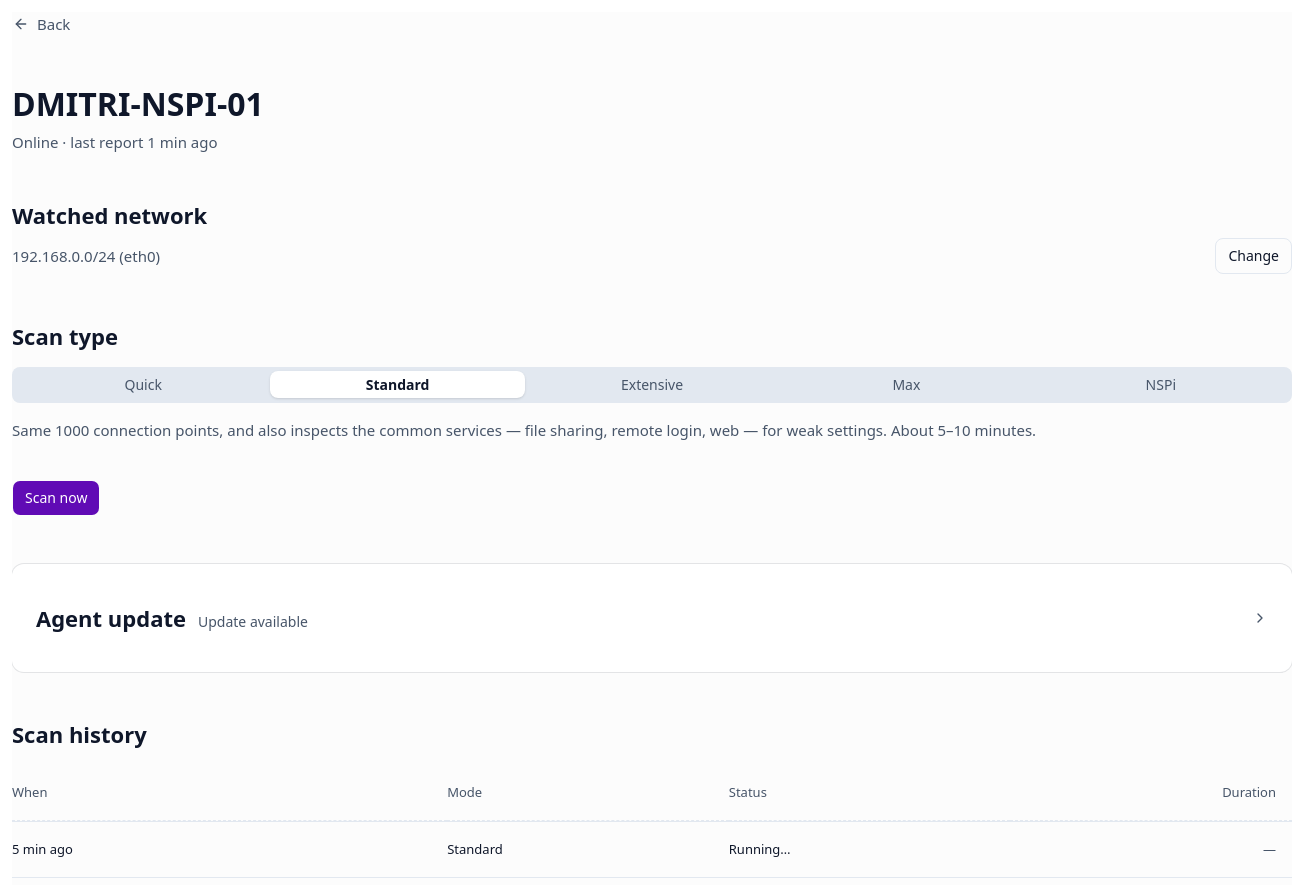
Device update section › notifies operation read failures while preserving persisted status and deduplicating manual refresh
The image size is (1304, 885).
Click the button with test id "agent-update-toggle" at (111, 618), box [12,588,1292,648]
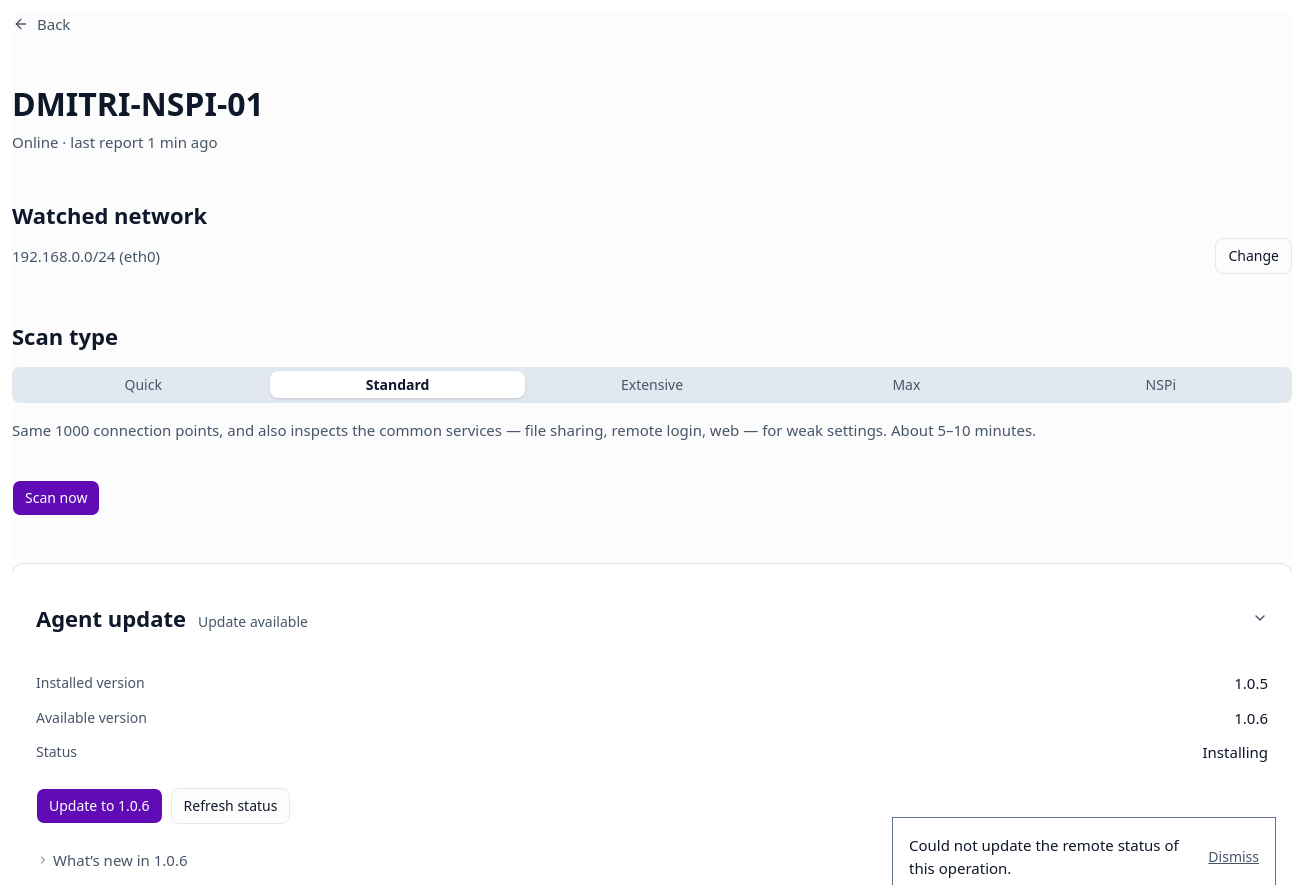
Check: the list item with test id "toast" shows "Could not update the remote status of this operation.", box [909,835,1179,878]
Click the button "Dismiss" at (1234, 856), box [1208,846,1259,867]
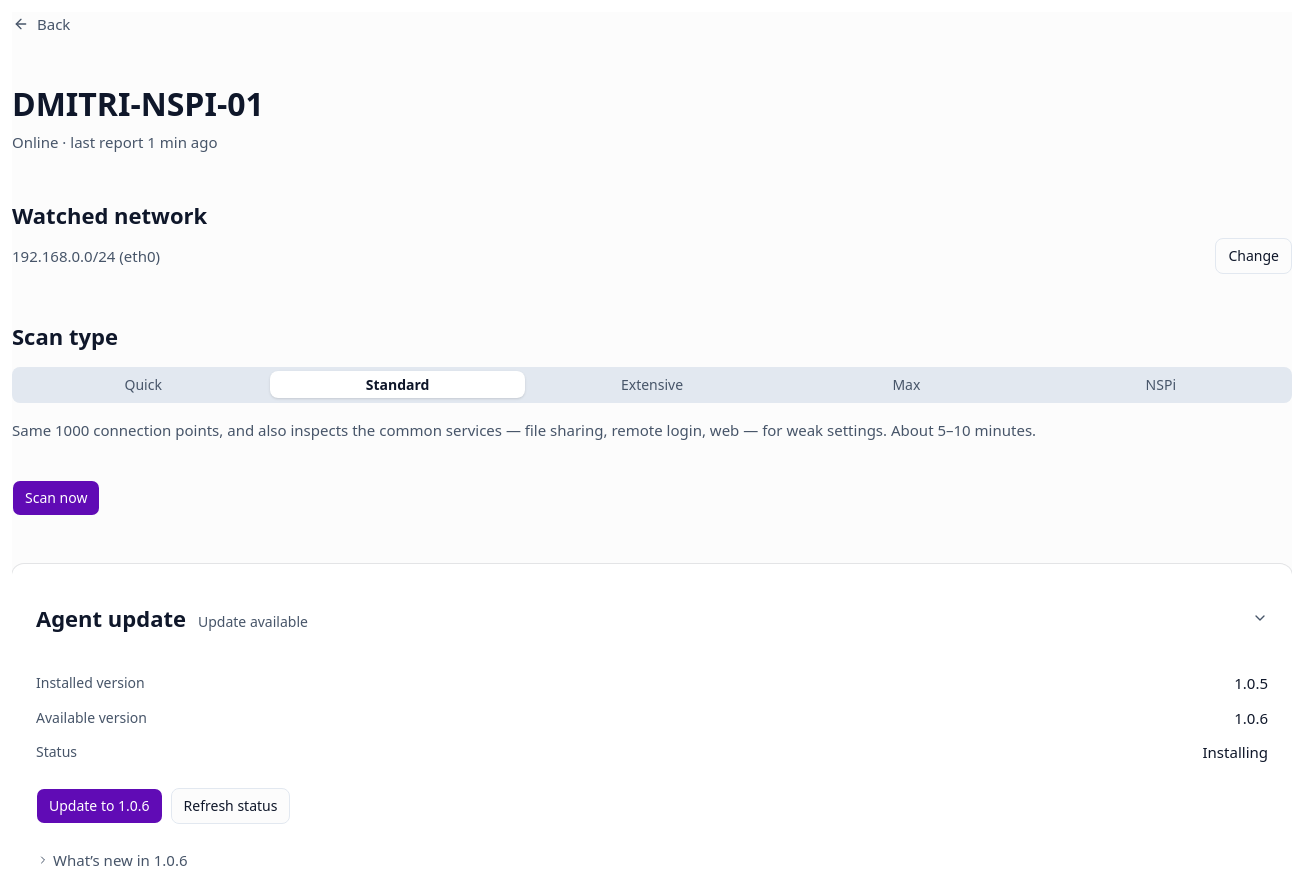
Click the button "Refresh status" at (230, 806), box [171,788,290,824]
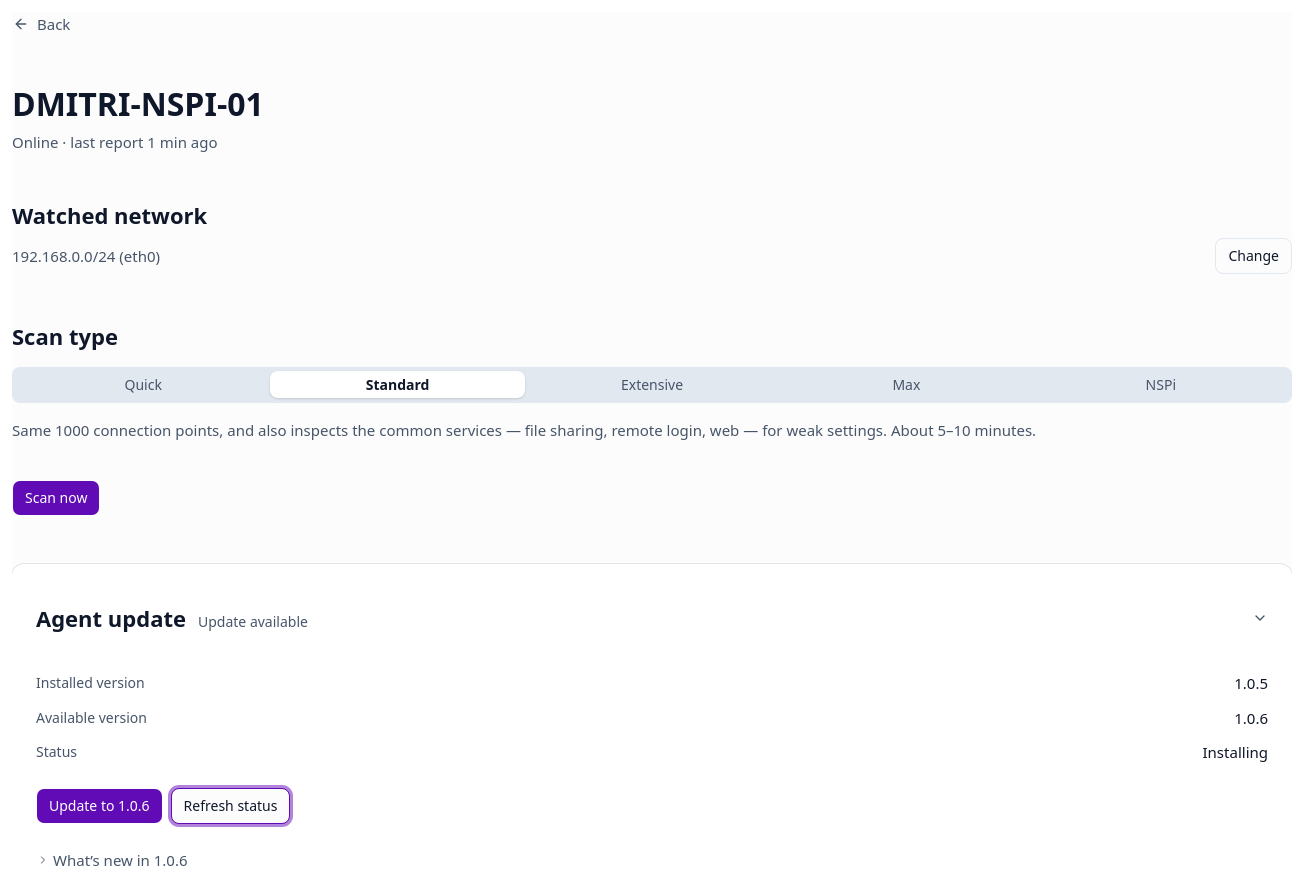
Click the button "Refresh status" at (230, 806), box [171,788,290,824]
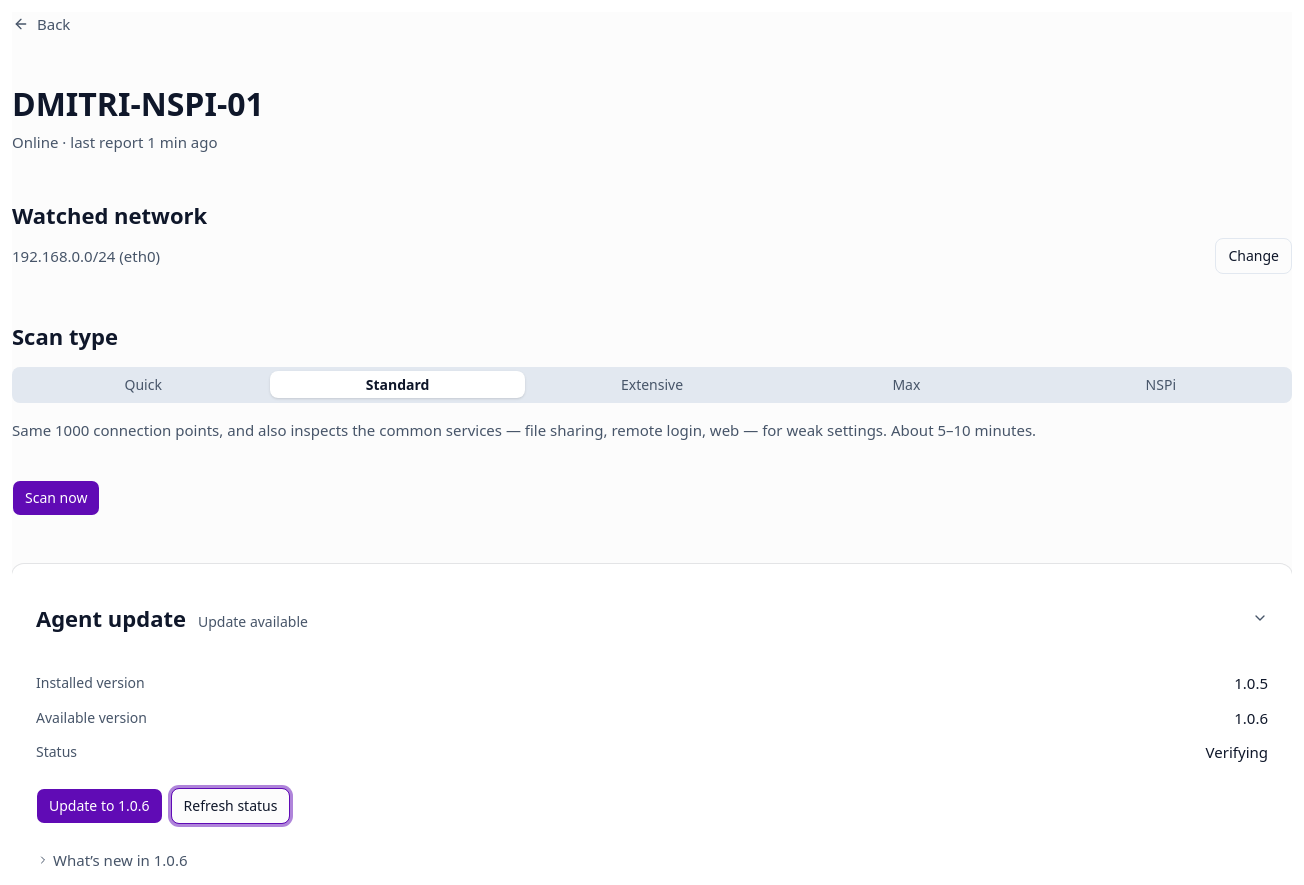
Click the button "Refresh status" at (230, 806), box [171,788,290,824]
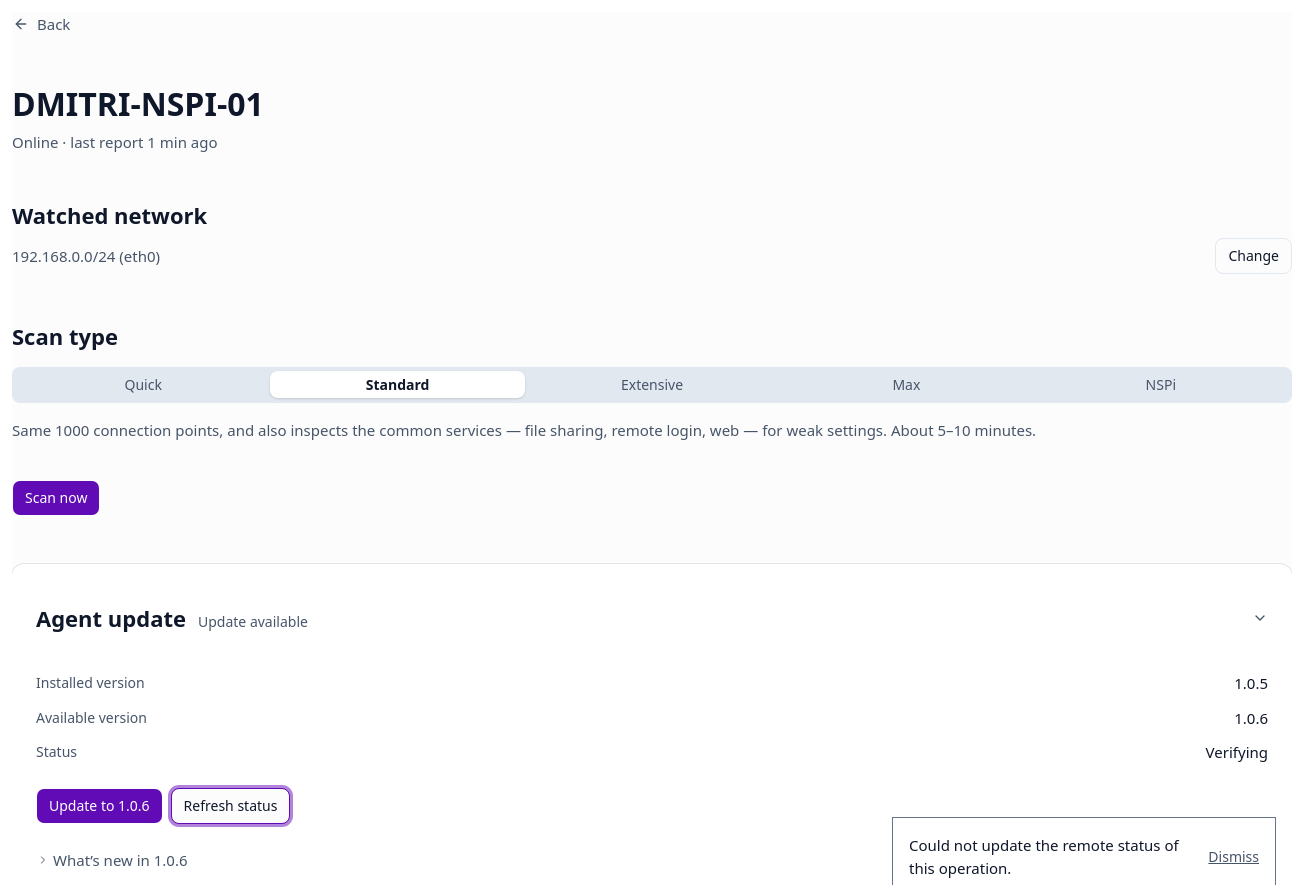
Check: the list item with test id "toast" shows "Could not update the remote status of this operation.", box [909,835,1179,878]
